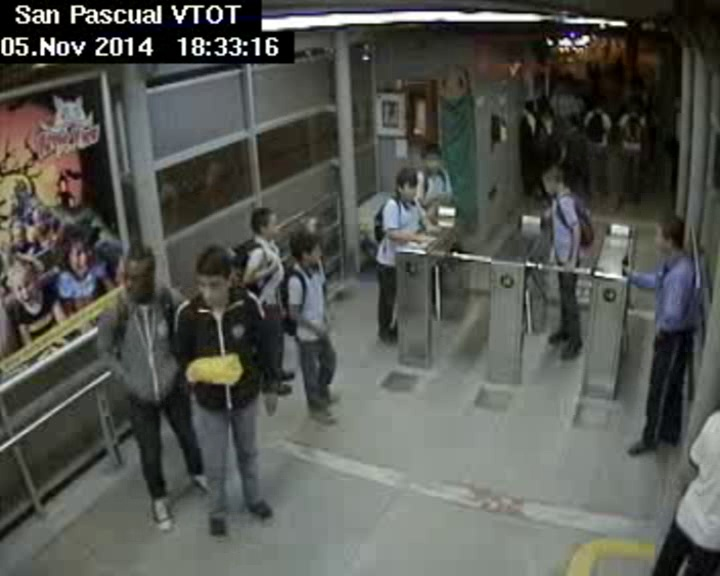person: (184, 236, 236, 303), (119, 244, 159, 307), (645, 212, 692, 262), (285, 228, 335, 267), (534, 159, 573, 201), (243, 205, 280, 241), (394, 168, 425, 208), (424, 143, 443, 176), (624, 99, 640, 119), (557, 76, 571, 92), (596, 96, 607, 114), (536, 85, 547, 103)
